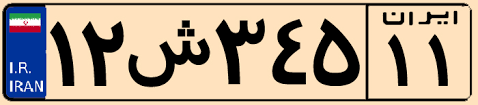character: (126, 12, 213, 89), (213, 10, 267, 91), (311, 9, 363, 93), (268, 9, 310, 93), (81, 16, 125, 93), (374, 26, 417, 89), (45, 16, 80, 89), (419, 30, 457, 91)
